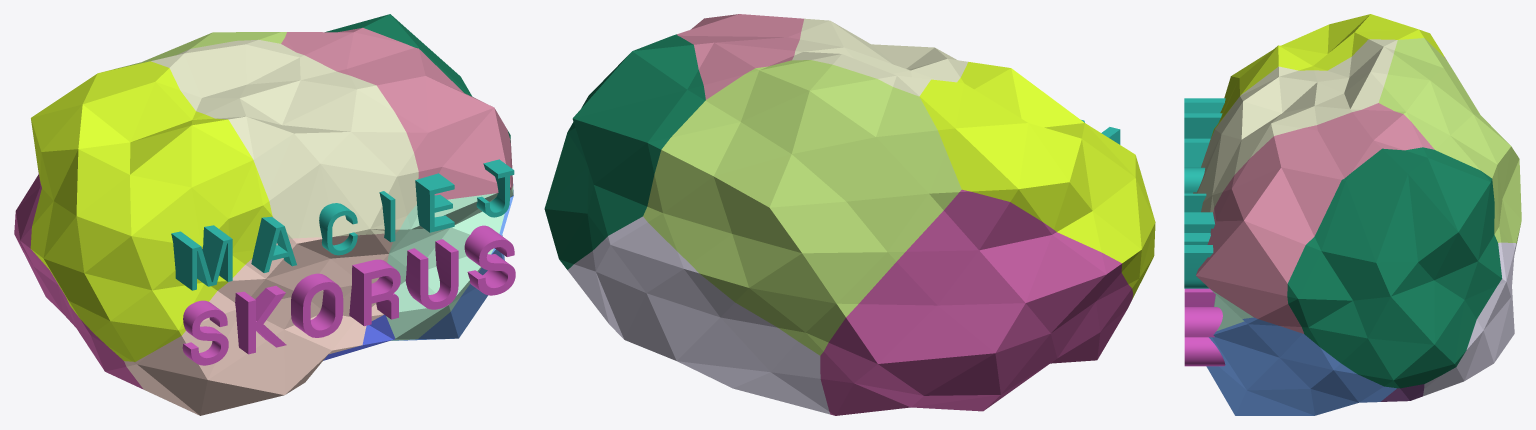
File: diax.glb
3 renders of one model, left to right at view 1: azimuth 30°, elevation 25°; view 2: azimuth 150°, elevation 25°; view 3: azimuth 270°, elevation 25°, orthographic. The views are drawn at different scales.
Parts seen in each view (by area): view 1: Icosphere.001_Part_6, Icosphere.001_Part_7, Icosphere.001_Part_5, Icosphere.001_Part_12, skorus, maciej, Icosphere.001_Part_2, Icosphere.001_Part_10, Icosphere.001_Part_1, Icosphere.001_Part_9, Icosphere.001_Part_8, Icosphere.001_Part_4; view 2: Icosphere.001_Part_8, Icosphere.001_Part_10, Icosphere.001_Part_6, Icosphere.001_Part_11, Icosphere.001_Part_9, Icosphere.001_Part_7, Icosphere.001_Part_12; view 3: Icosphere.001_Part_9, Icosphere.001_Part_12, Icosphere.001_Part_7, Icosphere.001_Part_1, Icosphere.001_Part_8, Icosphere.001_Part_6, maciej, Icosphere.001_Part_11, skorus, Icosphere.001_Part_2, Icosphere.001_Part_3.
Part boxes in pixels (<box>): Icosphere.001_Part_6: <box>30,61,272,361</box>; Icosphere.001_Part_7: <box>151,39,418,238</box>; Icosphere.001_Part_5: <box>124,232,396,415</box>; Icosphere.001_Part_12: <box>281,27,512,199</box>; skorus: <box>182,225,515,365</box>; maciej: <box>171,159,514,290</box>; Icosphere.001_Part_2: <box>386,186,513,340</box>; Icosphere.001_Part_10: <box>14,169,143,389</box>; Icosphere.001_Part_1: <box>392,184,513,340</box>; Icosphere.001_Part_9: <box>325,14,510,142</box>; Icosphere.001_Part_8: <box>113,32,286,69</box>; Icosphere.001_Part_4: <box>323,314,395,360</box>; Icosphere.001_Part_8: <box>643,60,961,355</box>; Icosphere.001_Part_10: <box>820,189,1133,415</box>; Icosphere.001_Part_6: <box>919,62,1155,298</box>; Icosphere.001_Part_11: <box>567,216,830,414</box>; Icosphere.001_Part_9: <box>544,34,705,269</box>; Icosphere.001_Part_7: <box>792,18,967,96</box>; Icosphere.001_Part_12: <box>677,14,803,99</box>; Icosphere.001_Part_9: <box>1287,147,1502,388</box>; Icosphere.001_Part_12: <box>1196,103,1434,333</box>; Icosphere.001_Part_7: <box>1193,39,1397,213</box>; Icosphere.001_Part_1: <box>1206,317,1396,415</box>; Icosphere.001_Part_8: <box>1378,38,1521,243</box>; Icosphere.001_Part_6: <box>1210,14,1444,140</box>; maciej: <box>1184,98,1225,288</box>; Icosphere.001_Part_11: <box>1423,242,1516,396</box>; skorus: <box>1184,288,1225,366</box>; Icosphere.001_Part_2: <box>1211,290,1253,331</box>; Icosphere.001_Part_3: <box>1381,384,1424,401</box>.
Size of the model in its own units: 11.35 by 6.82 by 7.19.
